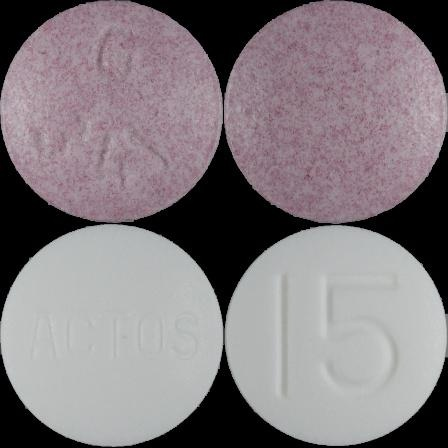68151-3646: (0, 0, 224, 224)
